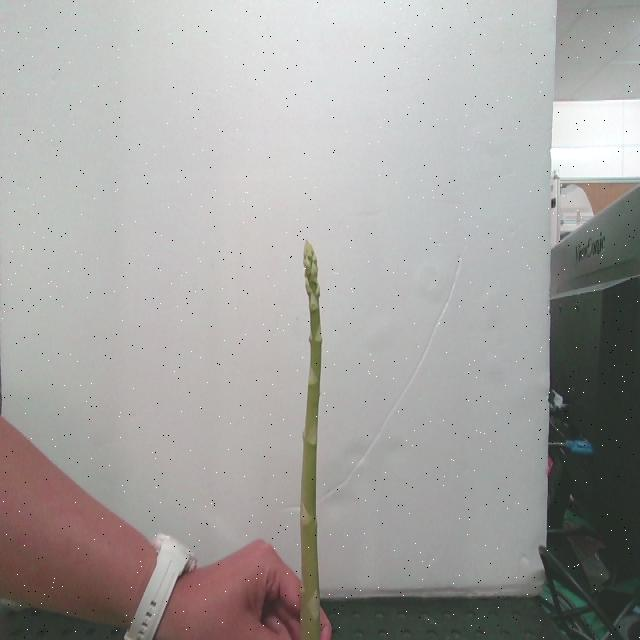aspargus: (300, 242, 333, 640)
